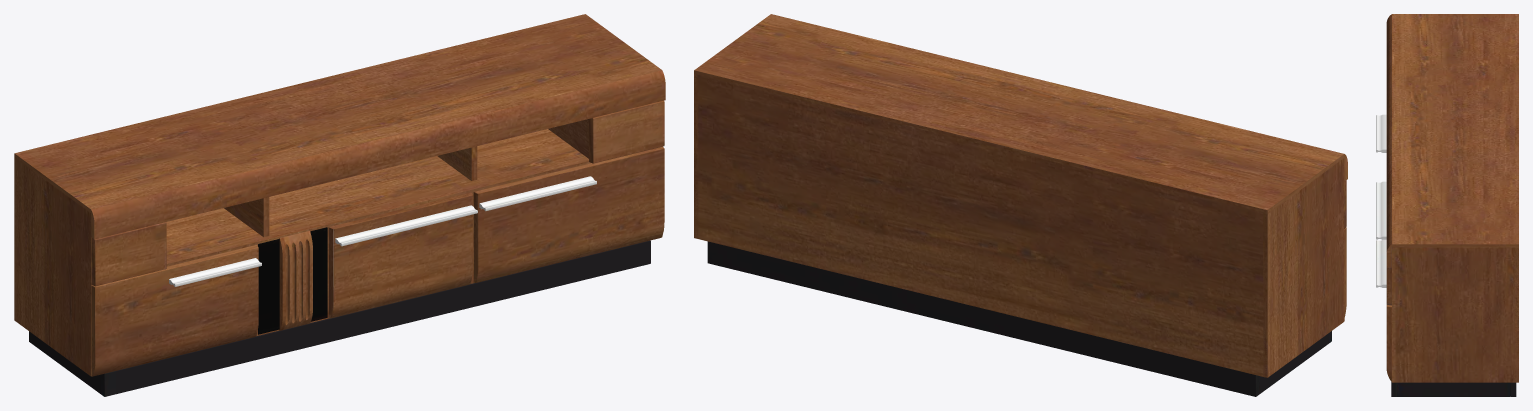
The model's file is abo-B07JWPXTDQ.glb.
The picture shows the model from 3 angles, left to right: view 1: azimuth 30°, elevation 25°; view 2: azimuth 150°, elevation 25°; view 3: azimuth 270°, elevation 25°; orthographic projection. The views are drawn at different scales.
Size of the model in its own units: 1.6 by 0.51 by 0.419.
Materials: 1 (1 with a texture image).
